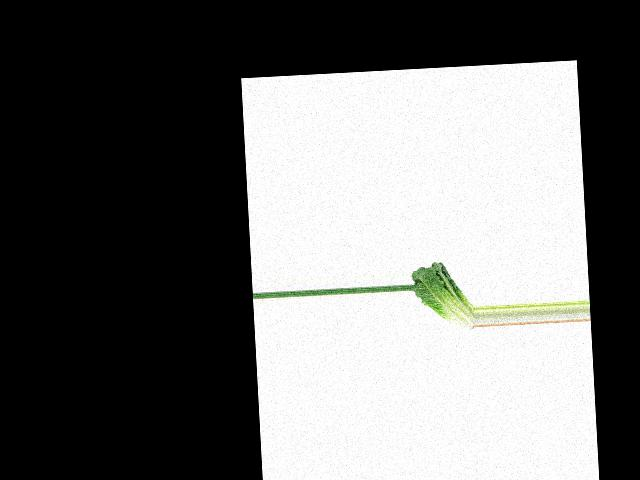lettuce: (411, 259, 474, 333)
